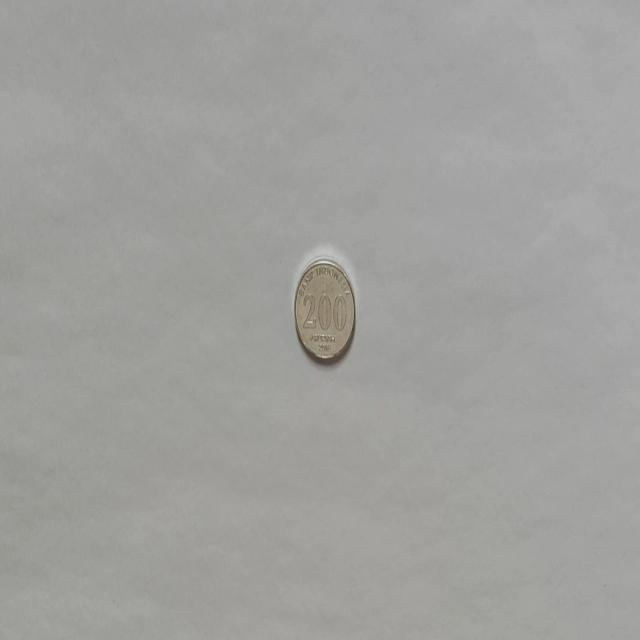dua ratus rupiah: (292, 255, 356, 365)
